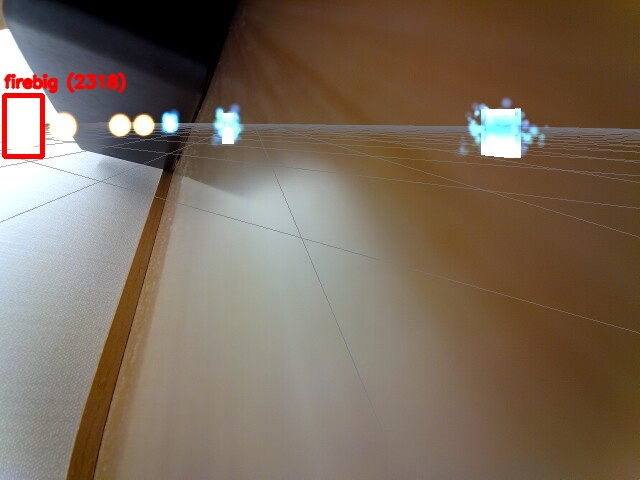firebig: (4, 95, 42, 156)
